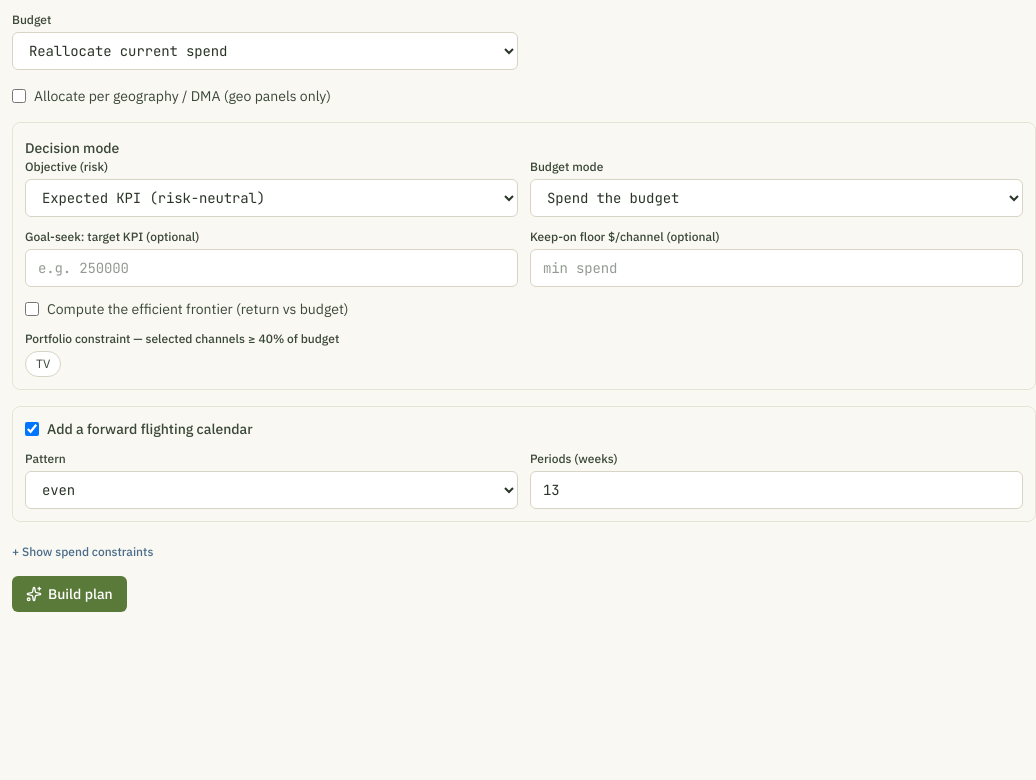
Scenario: PlannerStudio KPI valuation › offers the valuation field only for fund-to-breakeven
expect the field labelled "value of one KPI unit" is not shown: met
Select "Fund to breakeven" in the dropdown labelled "Budget mode". click: (776,198)
box: [530,179,1023,217]
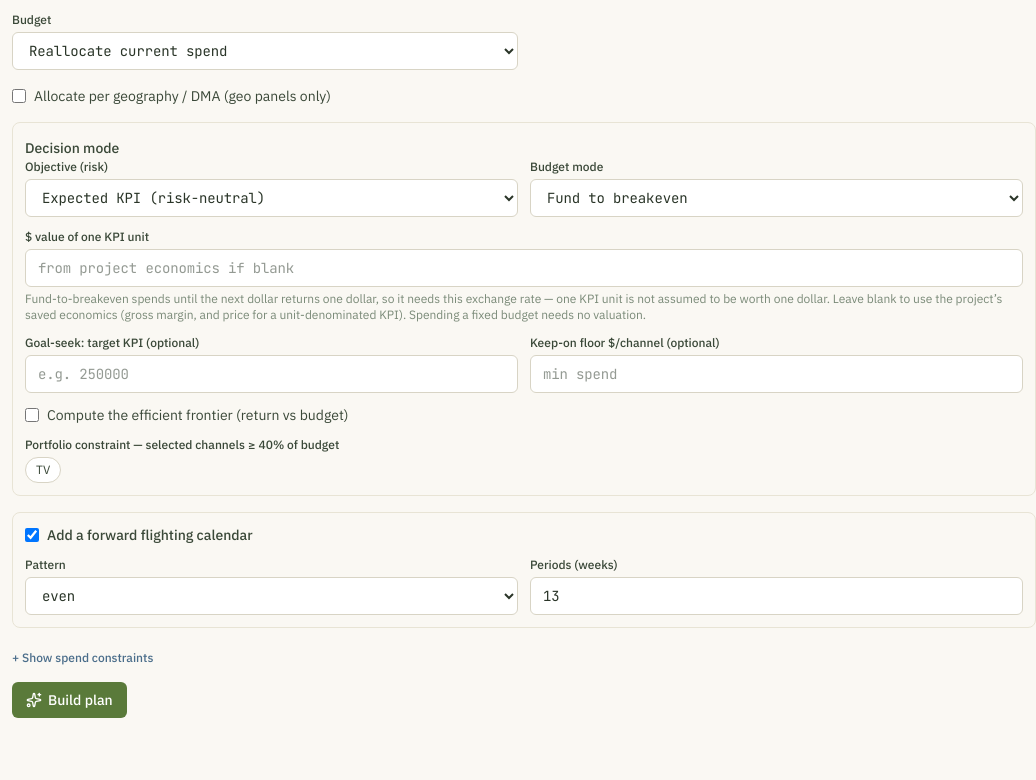
expect the number field labelled "$ value of one KPI unit" is shown: met, box [25,249,1023,287]
